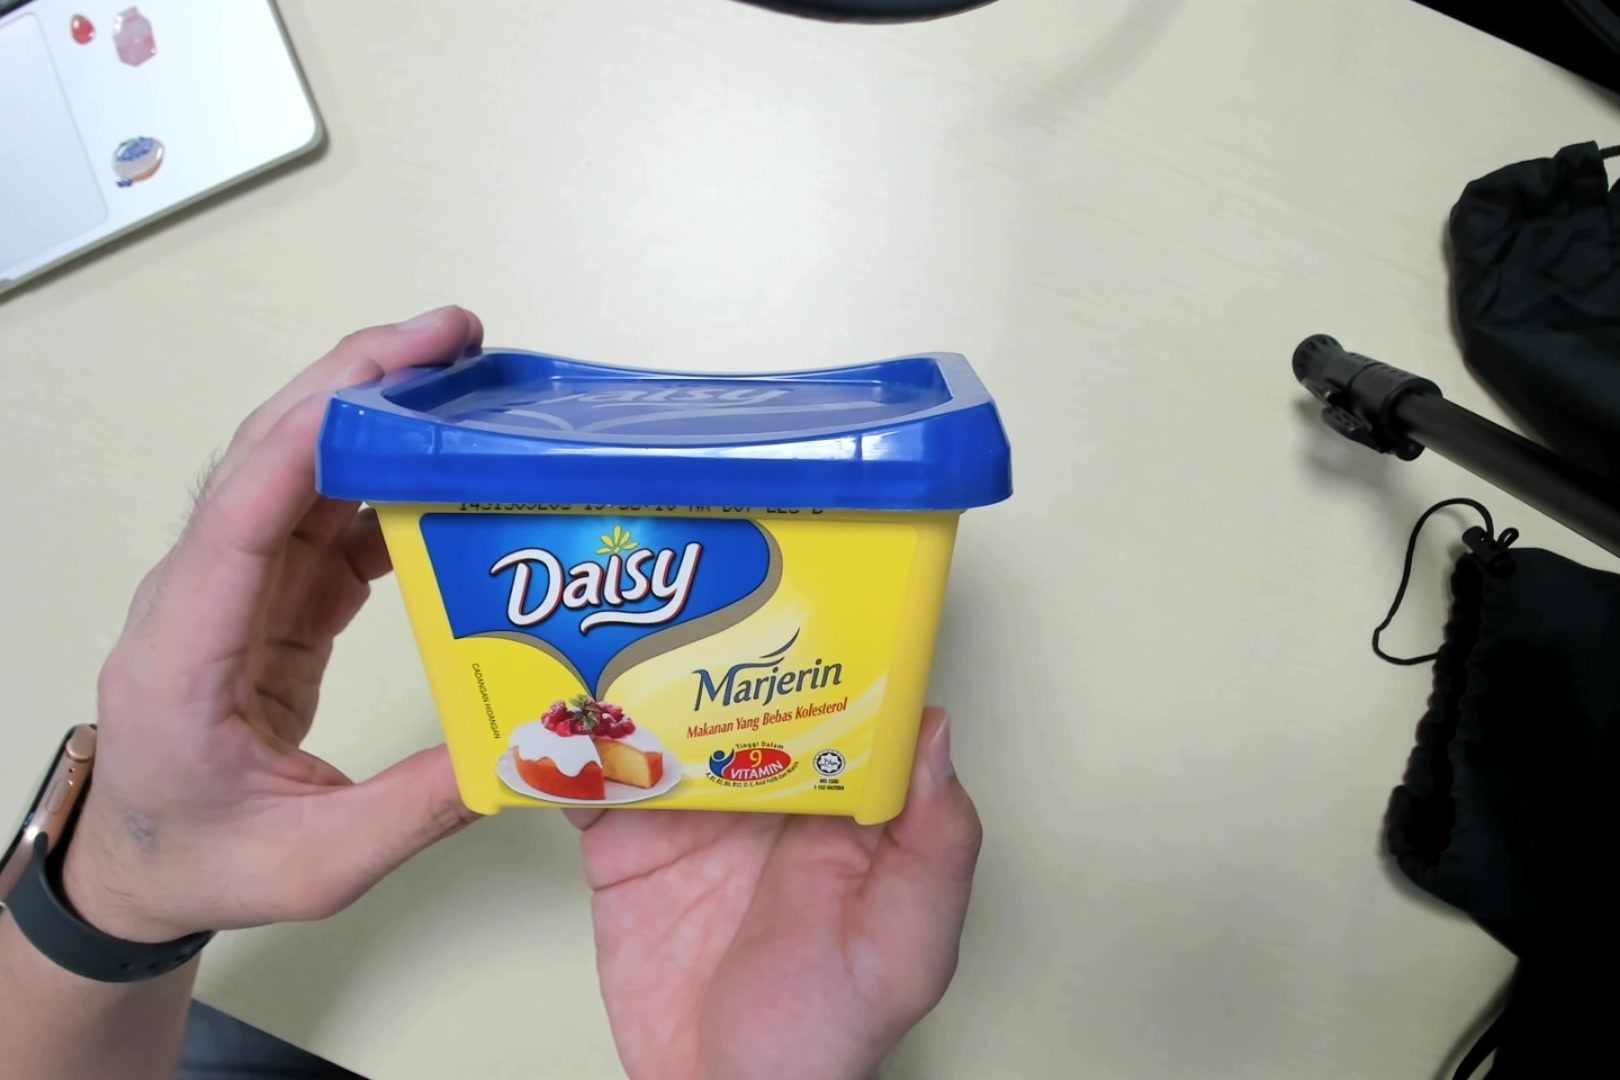OtherSpreads_400-499g_Halal_NonHealthy: (324, 348, 1014, 838)
